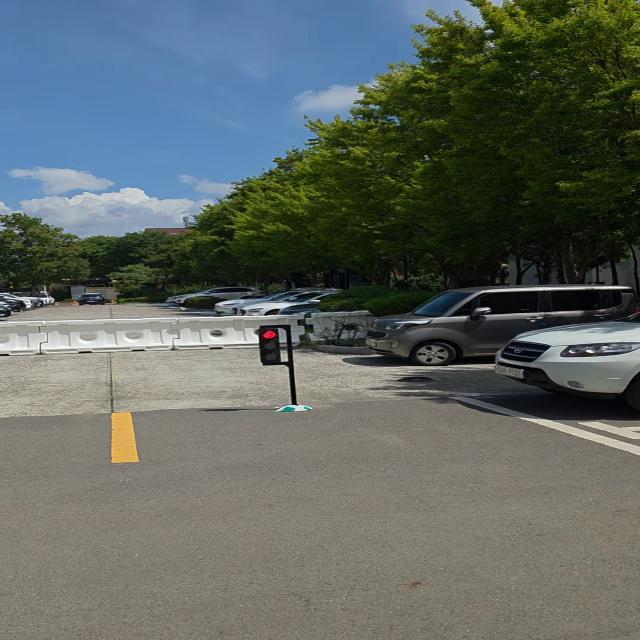red: (255, 325, 285, 368)
